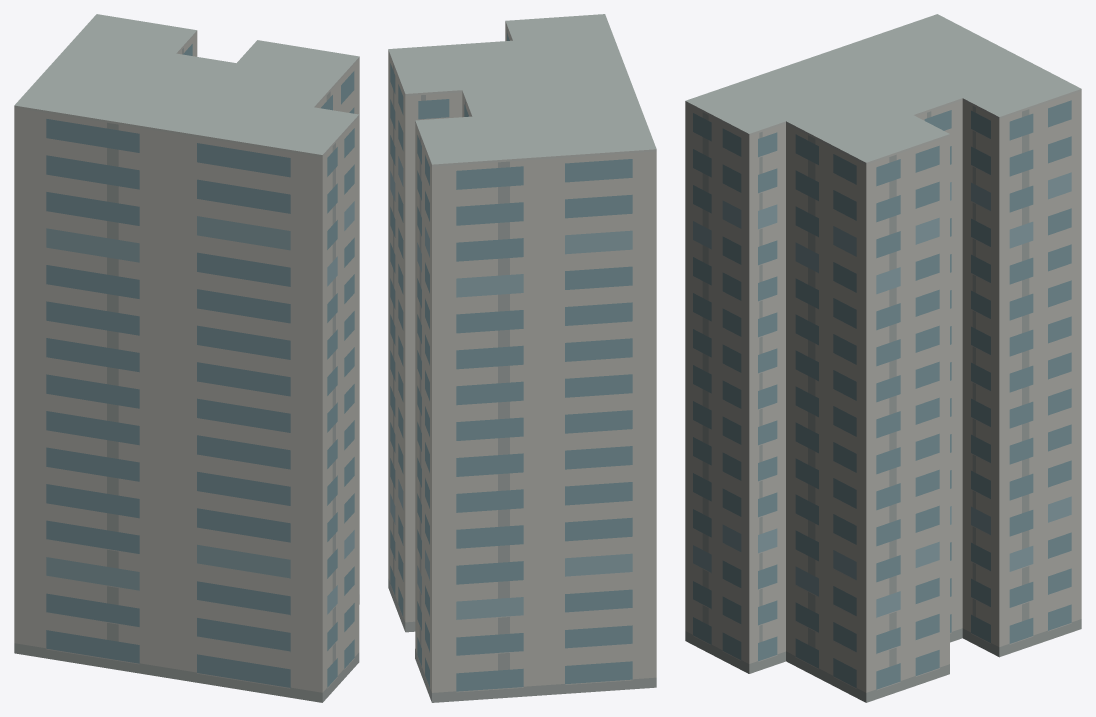
Rendered from residential-532e90d0-7743-4001-8e76-616f517d78ca.glb.
3 views of the same model, side by side, from view 1: azimuth 30°, elevation 25°; view 2: azimuth 150°, elevation 25°; view 3: azimuth 270°, elevation 25° (orthographic).
Parts seen in each view (by area): view 1: residential-532e90d0-7743-4001-8e76-616f517d78ca.tmp; view 2: residential-532e90d0-7743-4001-8e76-616f517d78ca.tmp; view 3: residential-532e90d0-7743-4001-8e76-616f517d78ca.tmp.
Boxes of the visible parts, box(x1,y1,x2,y2) form: residential-532e90d0-7743-4001-8e76-616f517d78ca.tmp: box(14, 14, 359, 702); residential-532e90d0-7743-4001-8e76-616f517d78ca.tmp: box(388, 14, 656, 702); residential-532e90d0-7743-4001-8e76-616f517d78ca.tmp: box(685, 14, 1081, 702).
Bounding box in the file's own units: 34.28 × 58 × 38.59.
